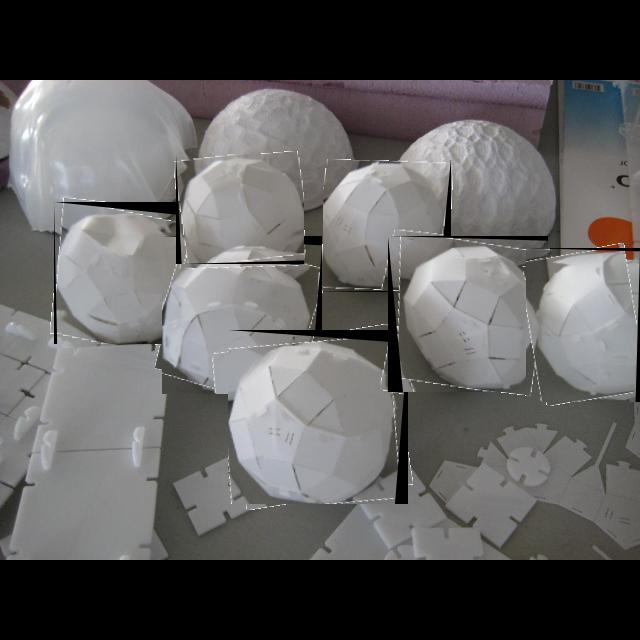Football: (228, 330, 408, 504), (162, 236, 322, 394), (388, 236, 548, 392), (54, 202, 196, 344), (526, 248, 640, 402), (323, 160, 451, 292), (176, 154, 304, 264)
